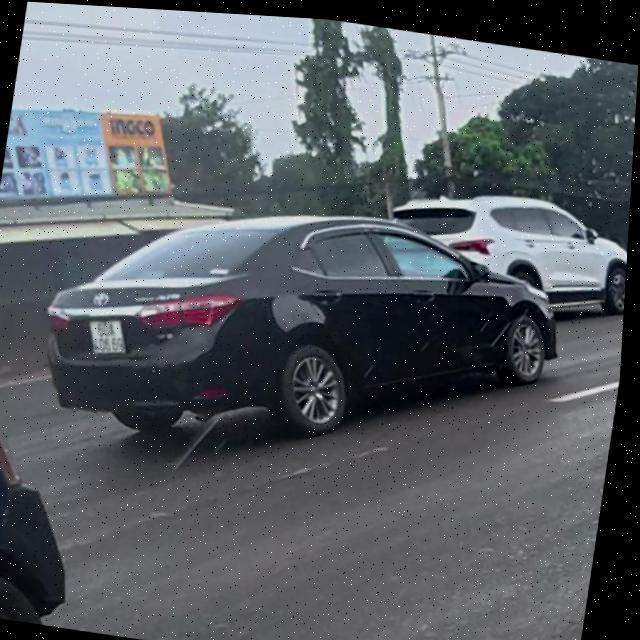car: (29, 168, 579, 495), (379, 176, 631, 329)
plate: (78, 309, 137, 364)
